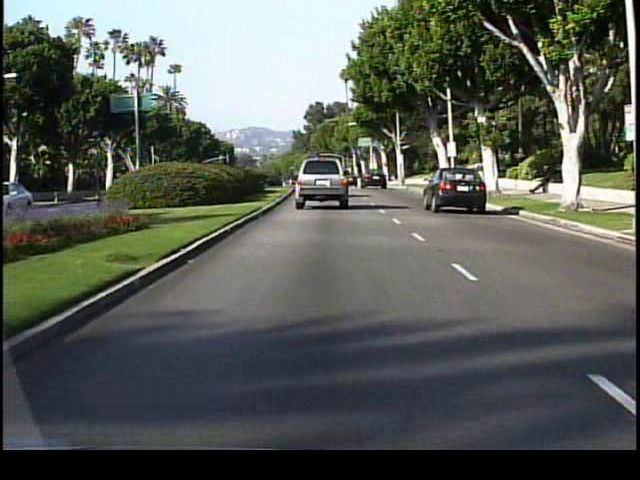person: (531, 161, 555, 199)
